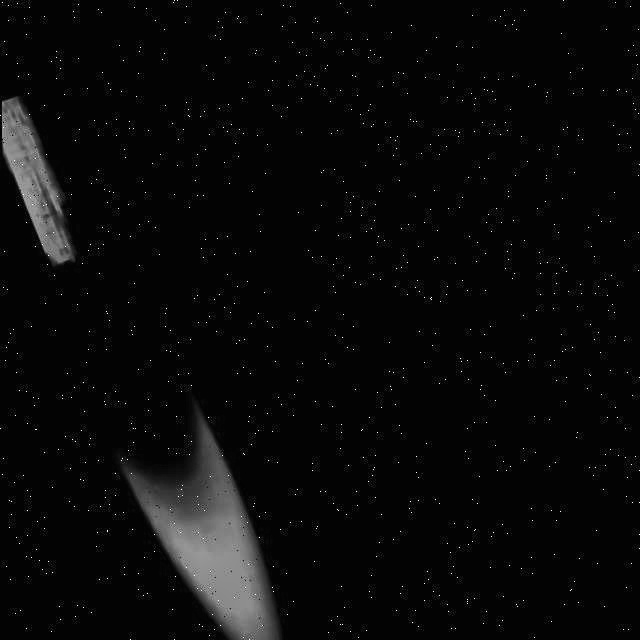Fire: (54, 302, 322, 640)
